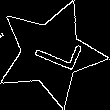L_NW: (21, 29, 81, 77)
